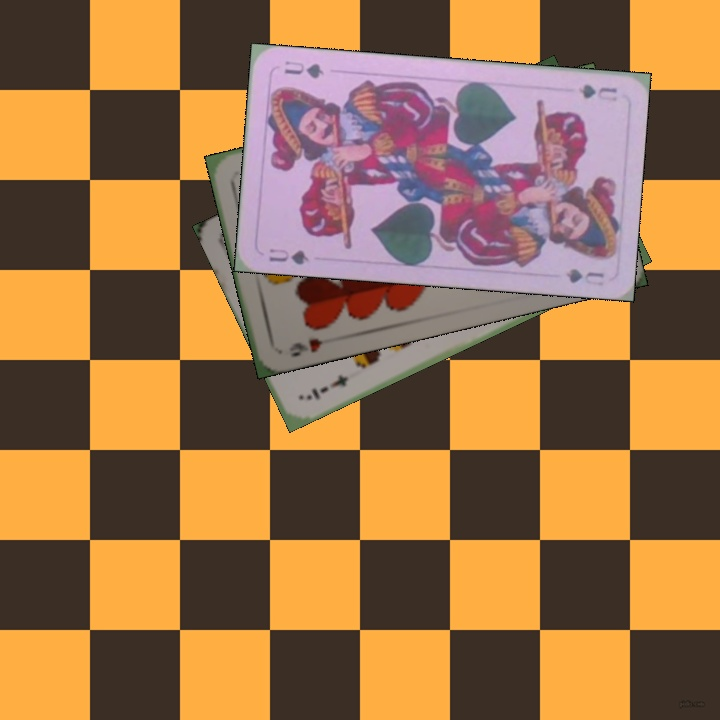E7: (302, 370, 351, 403)
GU: (265, 244, 311, 268), (574, 80, 620, 104)
H9: (285, 334, 326, 360)
